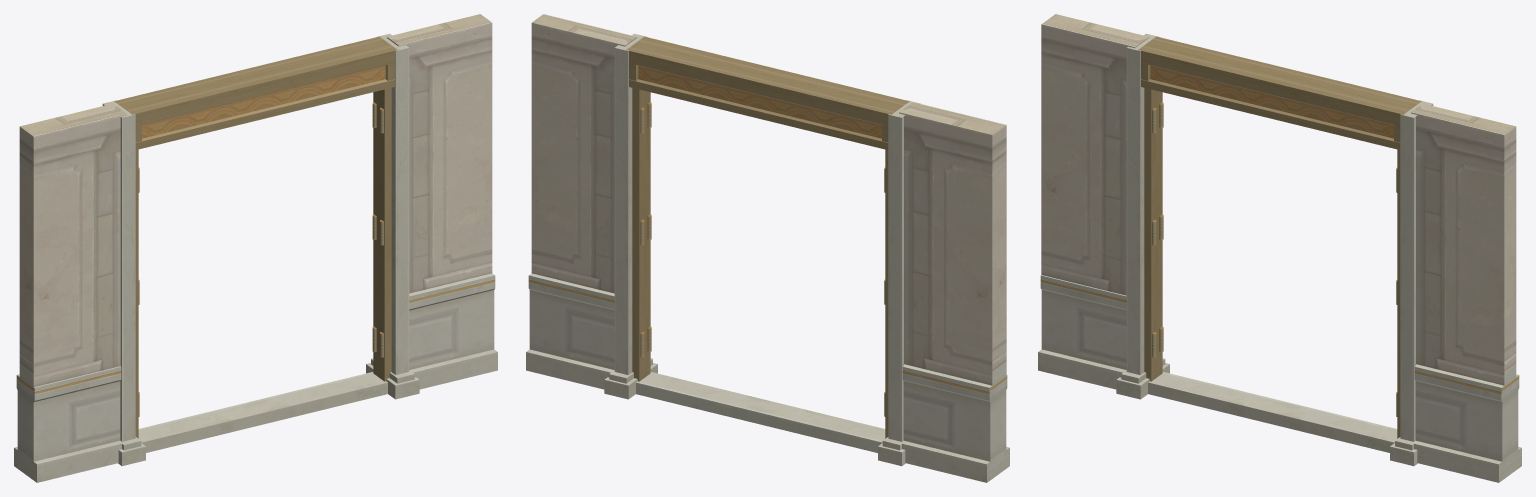
The model's file is Homeworld_Interior_Fd_Room_Door_03_01_Vo.fbx.
3 renders of one model, left to right at view 1: azimuth 30°, elevation 25°; view 2: azimuth 150°, elevation 25°; view 3: azimuth 330°, elevation 25°, orthographic.
Parts seen in each view (by area): view 1: Homeworld_Interior_Fd_Room_Door_03_01_Vo; view 2: Homeworld_Interior_Fd_Room_Door_03_01_Vo; view 3: Homeworld_Interior_Fd_Room_Door_03_01_Vo.
Boxes of the visible parts, x1,y1,x2,y2 form: Homeworld_Interior_Fd_Room_Door_03_01_Vo: (14, 14, 497, 482); Homeworld_Interior_Fd_Room_Door_03_01_Vo: (526, 14, 1009, 482); Homeworld_Interior_Fd_Room_Door_03_01_Vo: (1038, 14, 1521, 482).
Bounding box in the file's own units: 5 × 3.57 × 0.5544.
